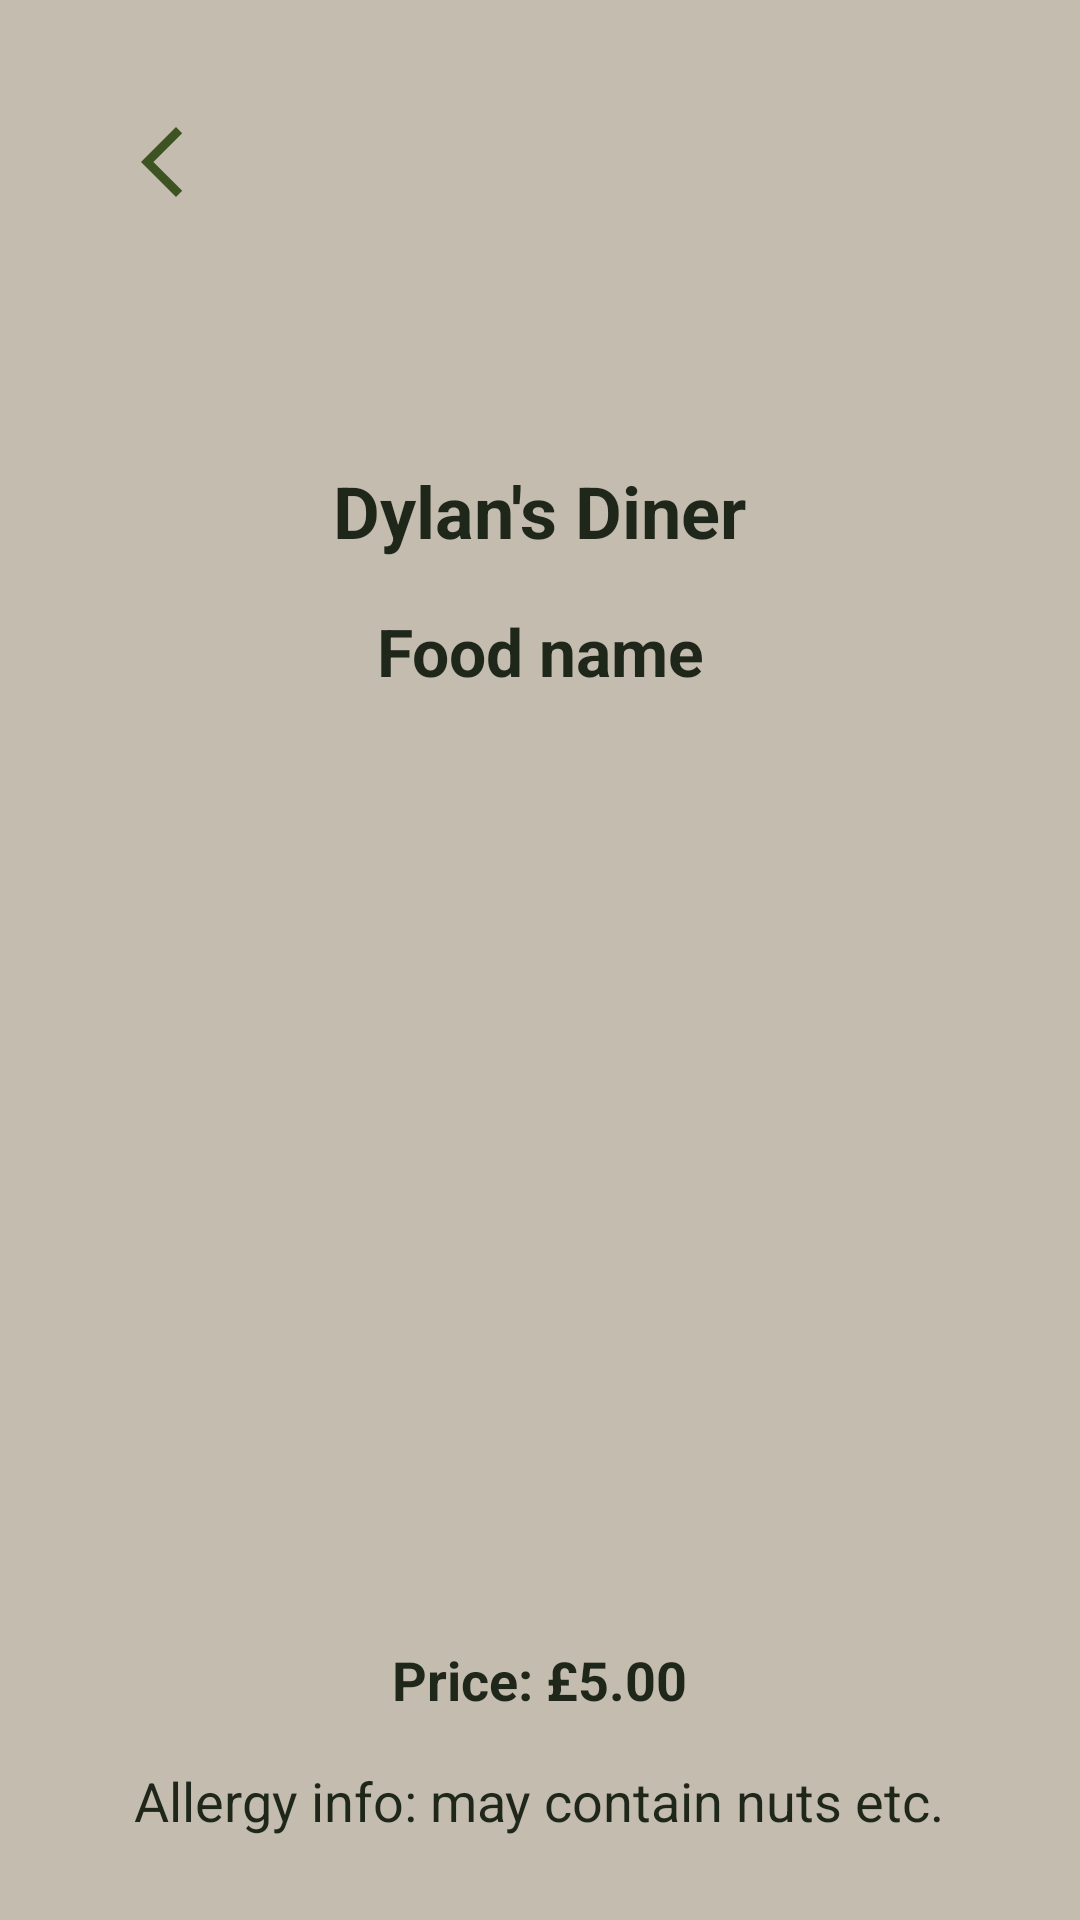

Locate icon controls on the screen. Image size 1080×1920, boxes as detection(x1, y1, x2, y2).
Back: detection(141, 127, 182, 197)
